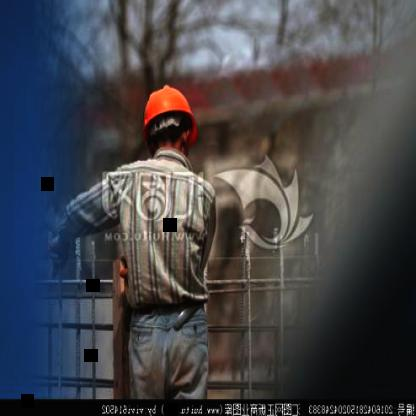helmet: (138, 77, 204, 171)
